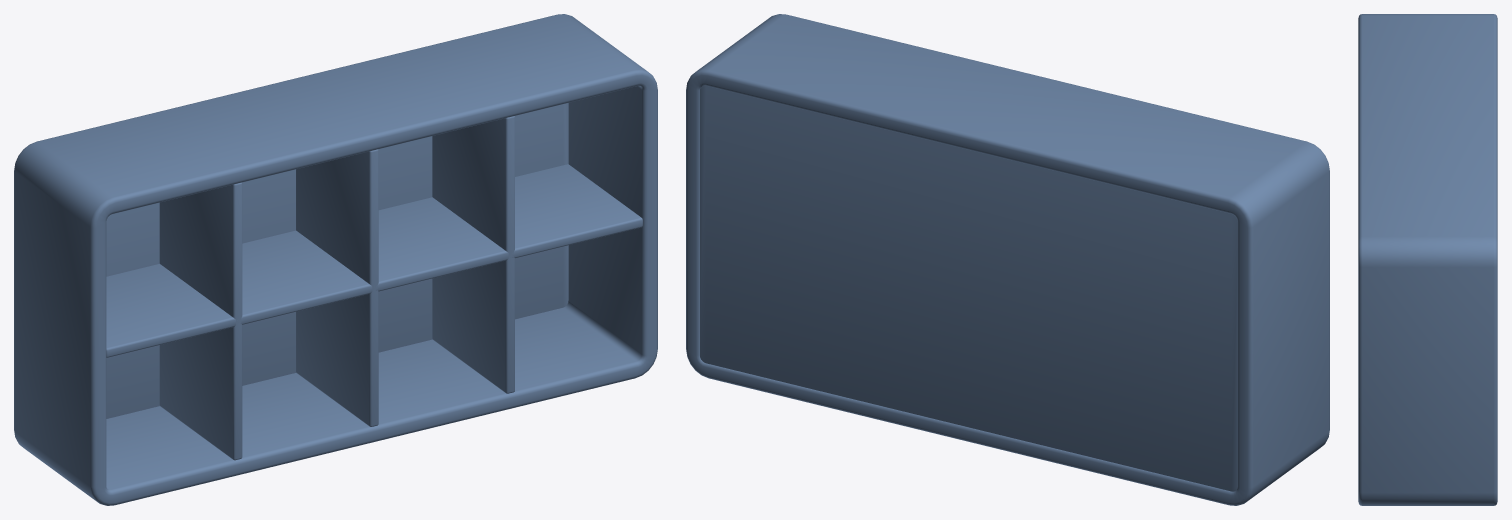
Rendered from estante_nichos_8_azul.glb.
The picture shows the model from 3 angles, left to right: view 1: azimuth 30°, elevation 25°; view 2: azimuth 150°, elevation 25°; view 3: azimuth 270°, elevation 25°; orthographic projection. The views are drawn at different scales.
Visible parts, largest first — view 1: estante_nichos_8_azul; view 2: estante_nichos_8_azul; view 3: estante_nichos_8_azul.
Part boxes in pixels (<box>): estante_nichos_8_azul: <box>14,14,657,505</box>; estante_nichos_8_azul: <box>686,14,1329,505</box>; estante_nichos_8_azul: <box>1358,14,1497,505</box>.
Size of the model in its own units: 1.47 by 0.764 by 0.36.
1 material, 1 textured.
